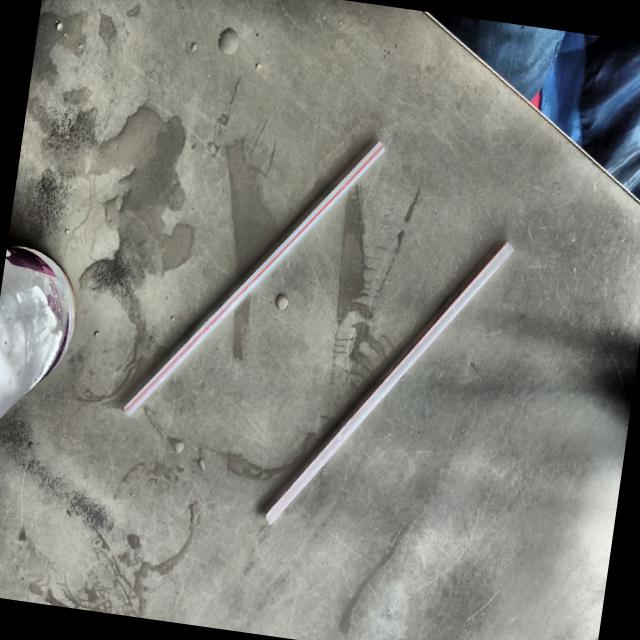plastic straw: (124, 142, 385, 415), (267, 243, 513, 524)
